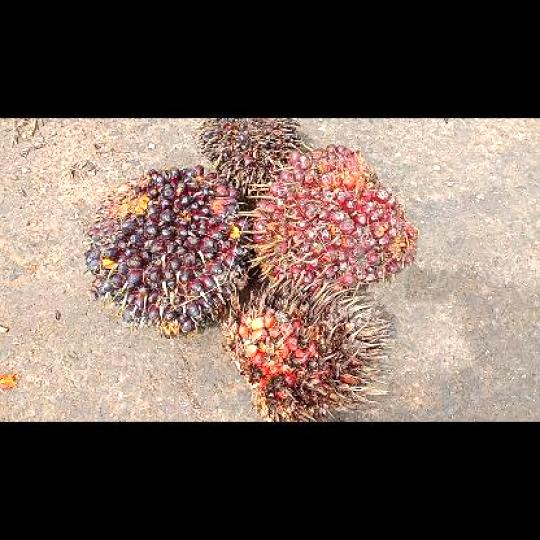kurang masak: (81, 165, 251, 341)
masak: (248, 142, 419, 292)
terlalu masak: (219, 278, 394, 420)
